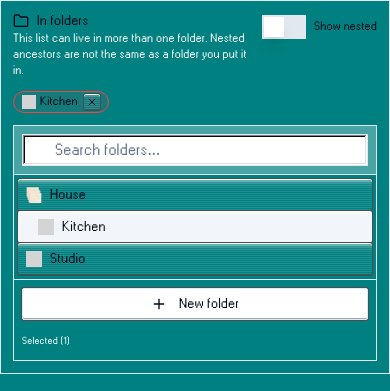
Test case: InFoldersEditor › clicking an inherited ancestor files the list there directly
What coordinates should you click on to do the following:
click the switch named "Show nested folders"
I would click on:
 (284, 27)
Its box is left=262, top=15, right=306, bottom=39.
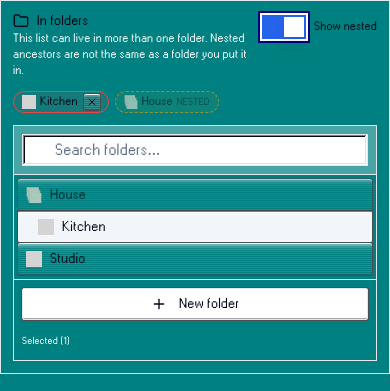
What coordinates should you click on to do the following:
click the button "House"
I would click on:
 (68, 194)
Its box is left=18, top=179, right=372, bottom=211.
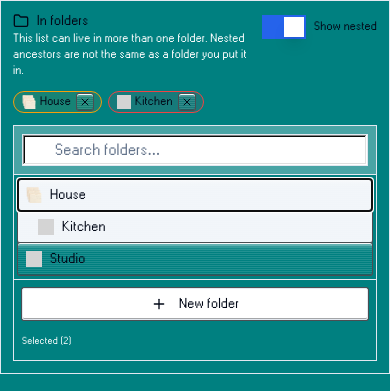
Now the button named "Remove from House" is shown, box left=77, top=94, right=93, bottom=110
